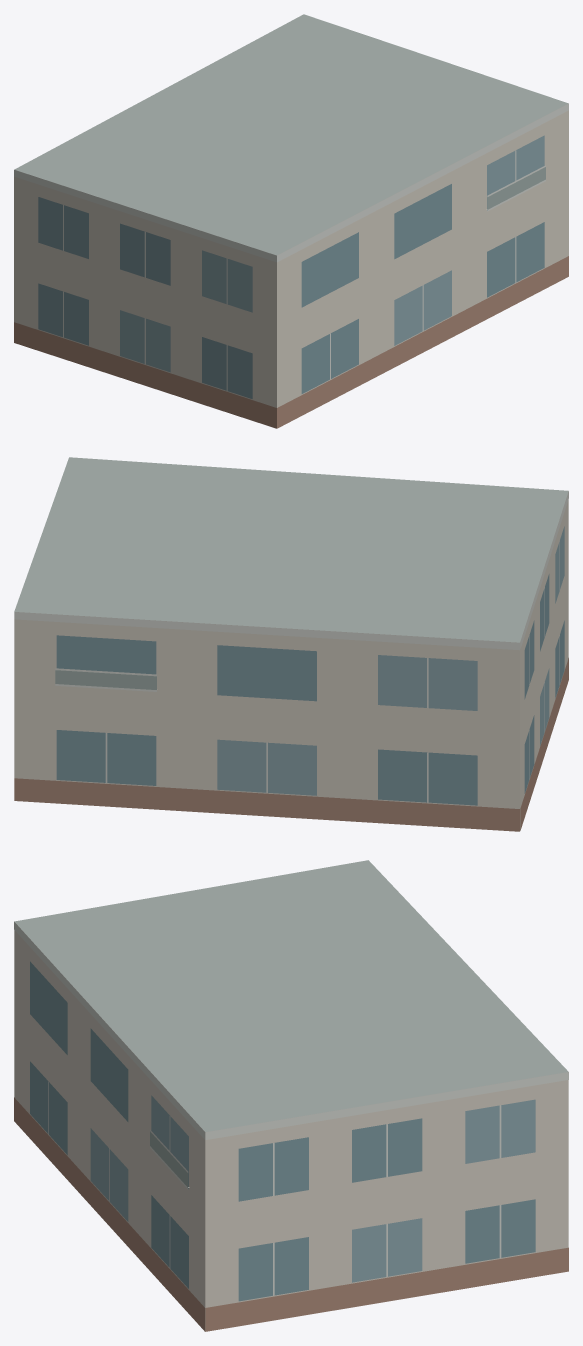
The model's file is survey-upis-32850472.glb.
The picture shows the model from 3 angles, top to bottom: view 1: azimuth 30°, elevation 25°; view 2: azimuth 150°, elevation 25°; view 3: azimuth 270°, elevation 25°; orthographic projection. The views are drawn at different scales.
Visible parts, largest first — view 1: survey-upis-32850472.tmp; view 2: survey-upis-32850472.tmp; view 3: survey-upis-32850472.tmp.
Part boxes in pixels (left/top/right/bottom): survey-upis-32850472.tmp: left=14, top=14, right=568, bottom=428; survey-upis-32850472.tmp: left=14, top=457, right=568, bottom=831; survey-upis-32850472.tmp: left=14, top=860, right=568, bottom=1331.
Size of the model in its own units: 17.85 by 6.1 by 15.37.
